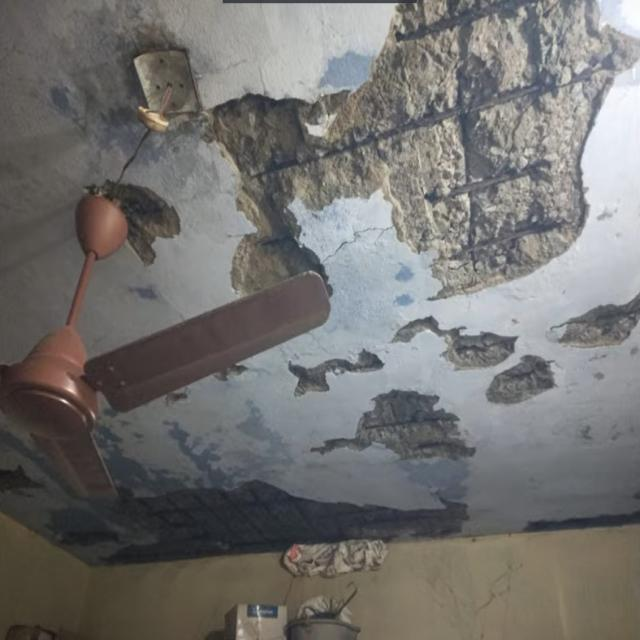Spalling: (192, 0, 640, 291), (278, 306, 640, 474), (4, 474, 484, 550)
